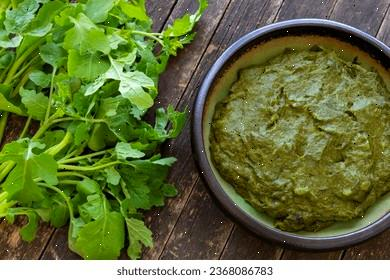saag: (211, 48, 390, 222)
